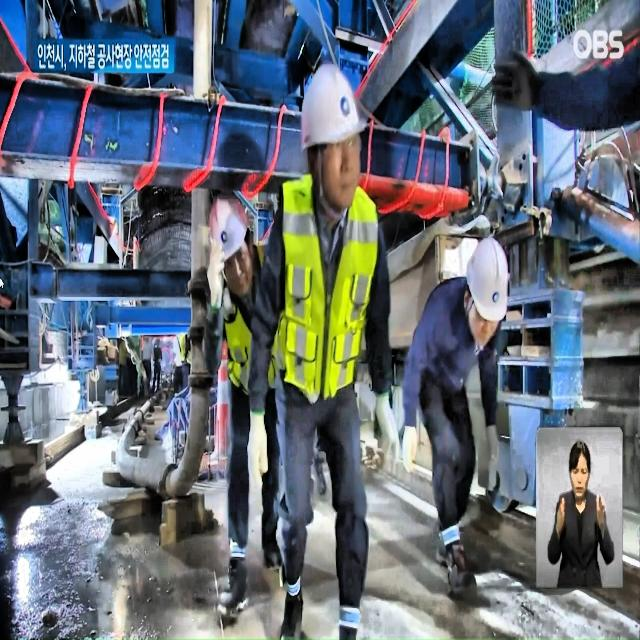safety_helmet: (301, 60, 368, 148), (202, 190, 255, 264), (466, 236, 508, 325)
safety_jacket: (278, 176, 381, 394), (228, 238, 290, 400)
